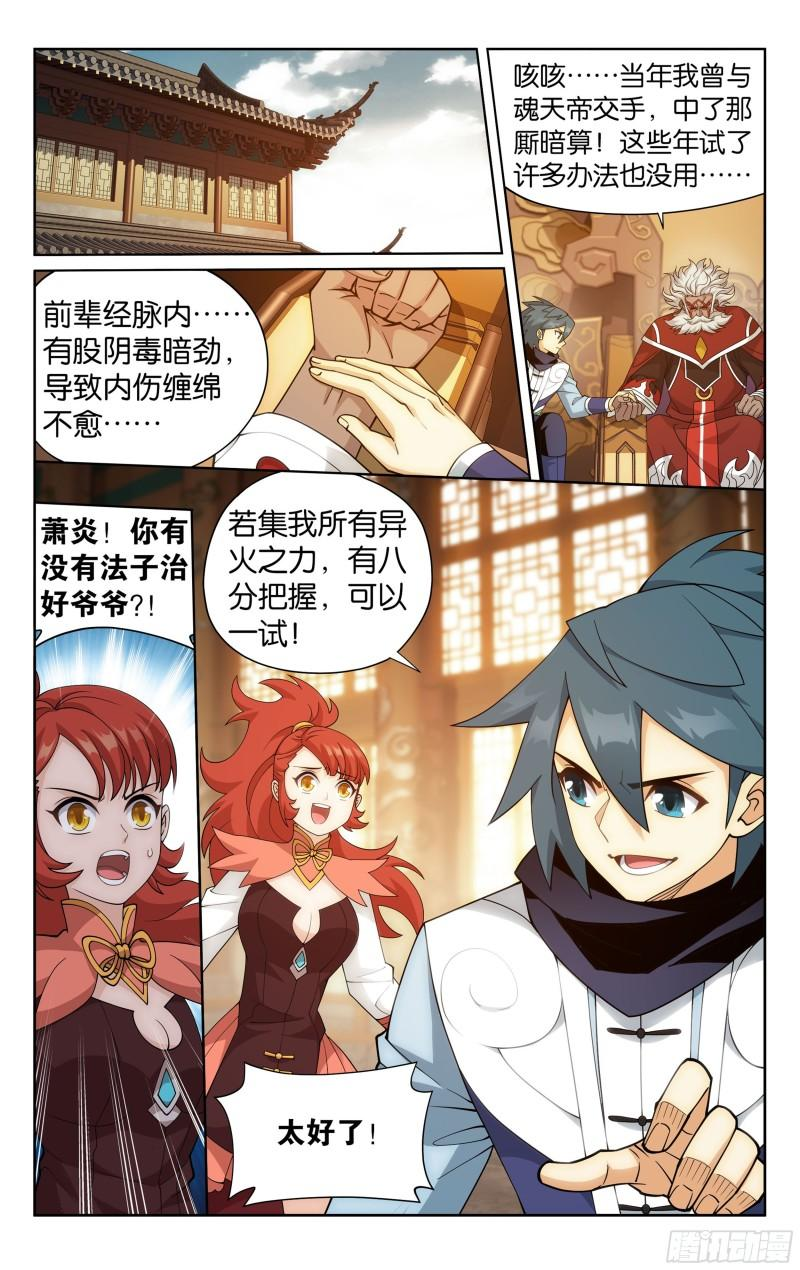boxBomb: (213, 1054, 441, 1207), (24, 500, 198, 655)
boxEllipse: (483, 41, 771, 230), (30, 263, 270, 470), (201, 470, 438, 679)
minBox: (24, 455, 774, 1225), (24, 494, 216, 1225), (480, 41, 774, 491), (24, 260, 534, 488), (27, 41, 507, 266)
